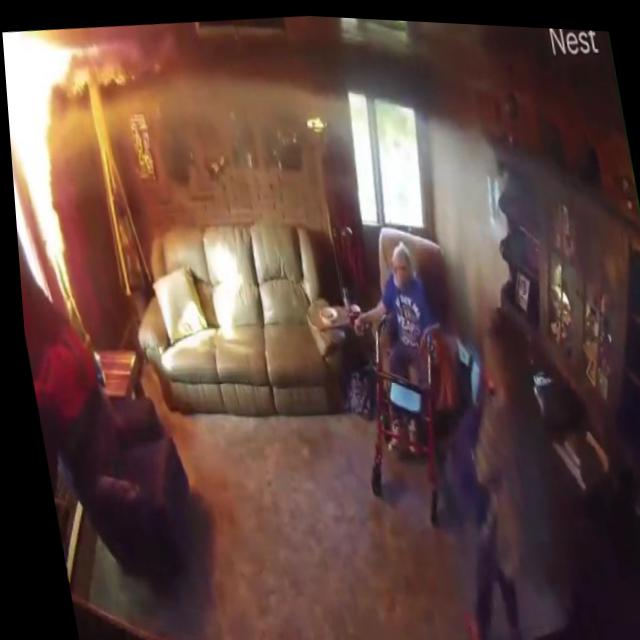fire: (2, 33, 72, 326), (1, 25, 129, 116)
